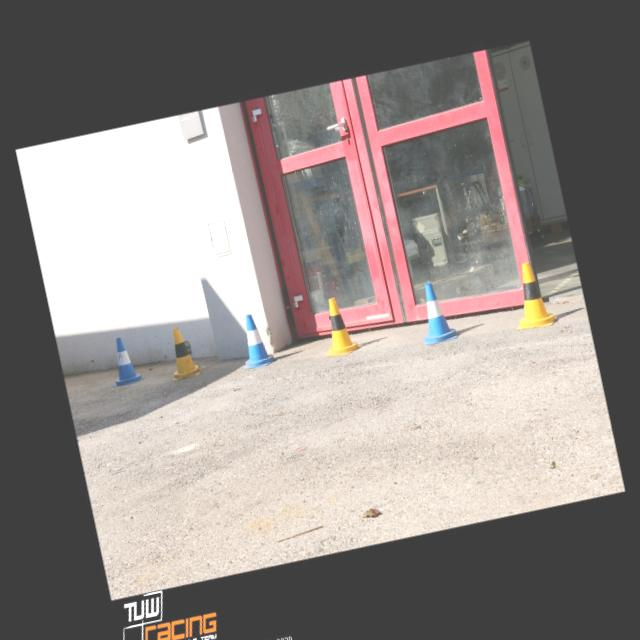blue_cone: (410, 278, 458, 346), (232, 310, 278, 370), (101, 333, 146, 388)
yellow_cone: (503, 258, 559, 331), (313, 292, 364, 358), (162, 324, 202, 380)
